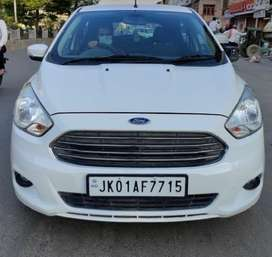JK01AF7715: (88, 176, 185, 196)
